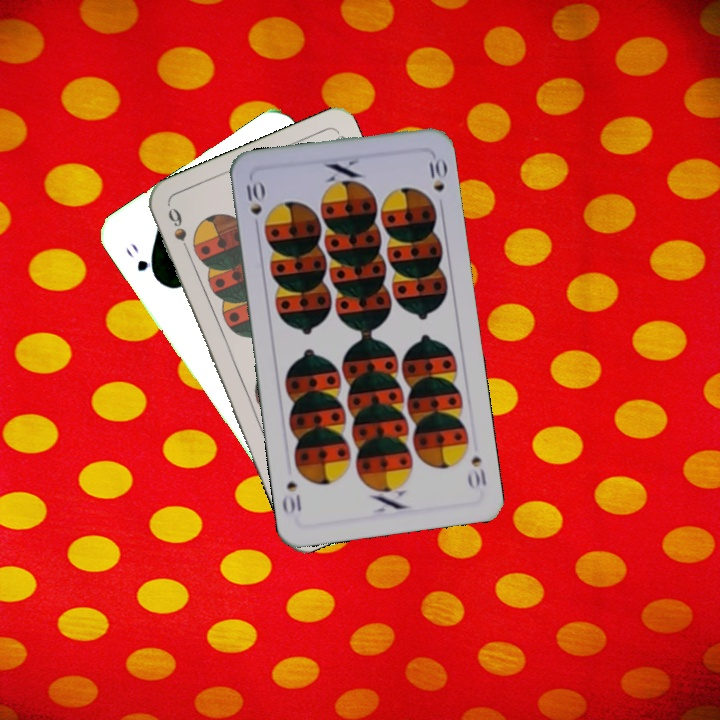GO: (121, 239, 161, 284)
S10: (464, 451, 489, 492), (242, 175, 266, 217)
S9: (164, 203, 194, 260)
